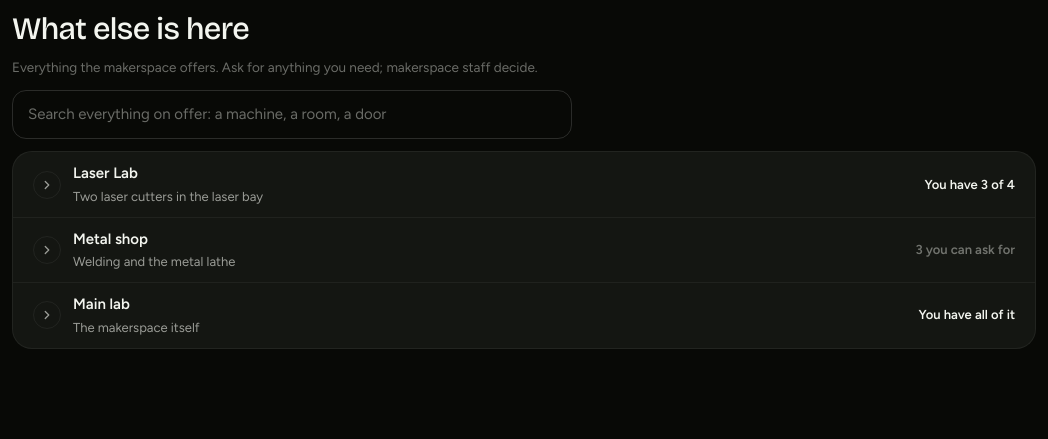
Test: MemberCatalog search › says when nothing matches and points at Ask for access; clearing folds everything back
Type "kiln" into the search field labelled "Search everything on offer" at (292, 115), box [12,90,572,140]
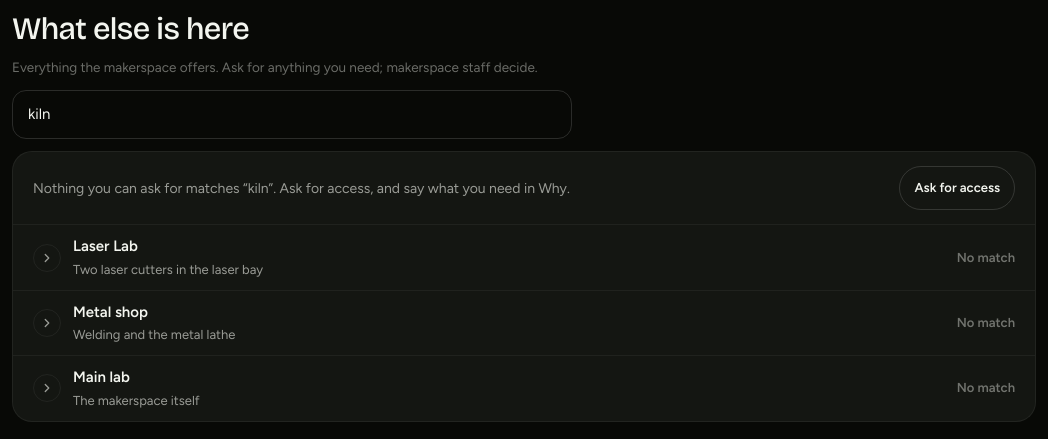
Check: the text "Nothing you can ask for matches “kiln”. Ask for access, and say what you need in Why." is shown, box [33,180,570,197]
Check: the link "Ask for access" is shown, box [900,166,1015,210]
Clear the search field named "Search everything on offer" at (292, 115), box [12,90,572,140]
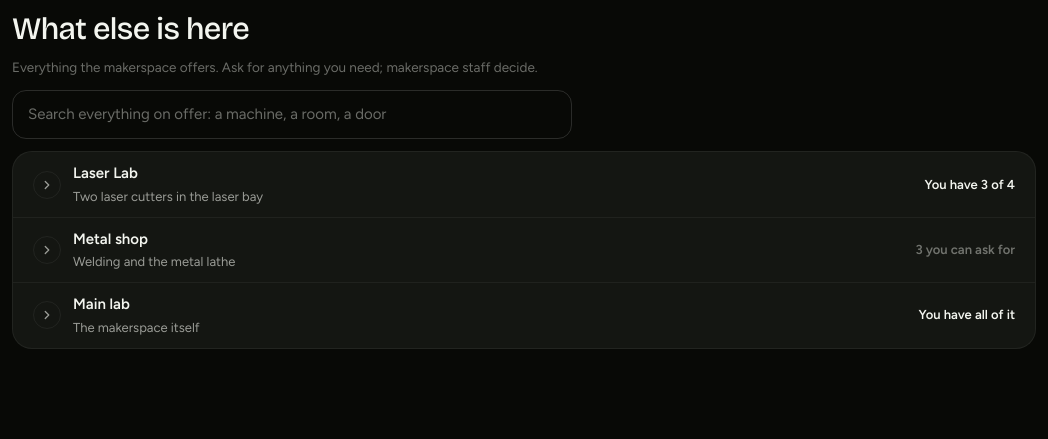
Check: the text "Nothing you can ask for matches" is gone
Check: the button "Laser Lab" shows "You have 3 of 4", box [13,152,1035,217]
